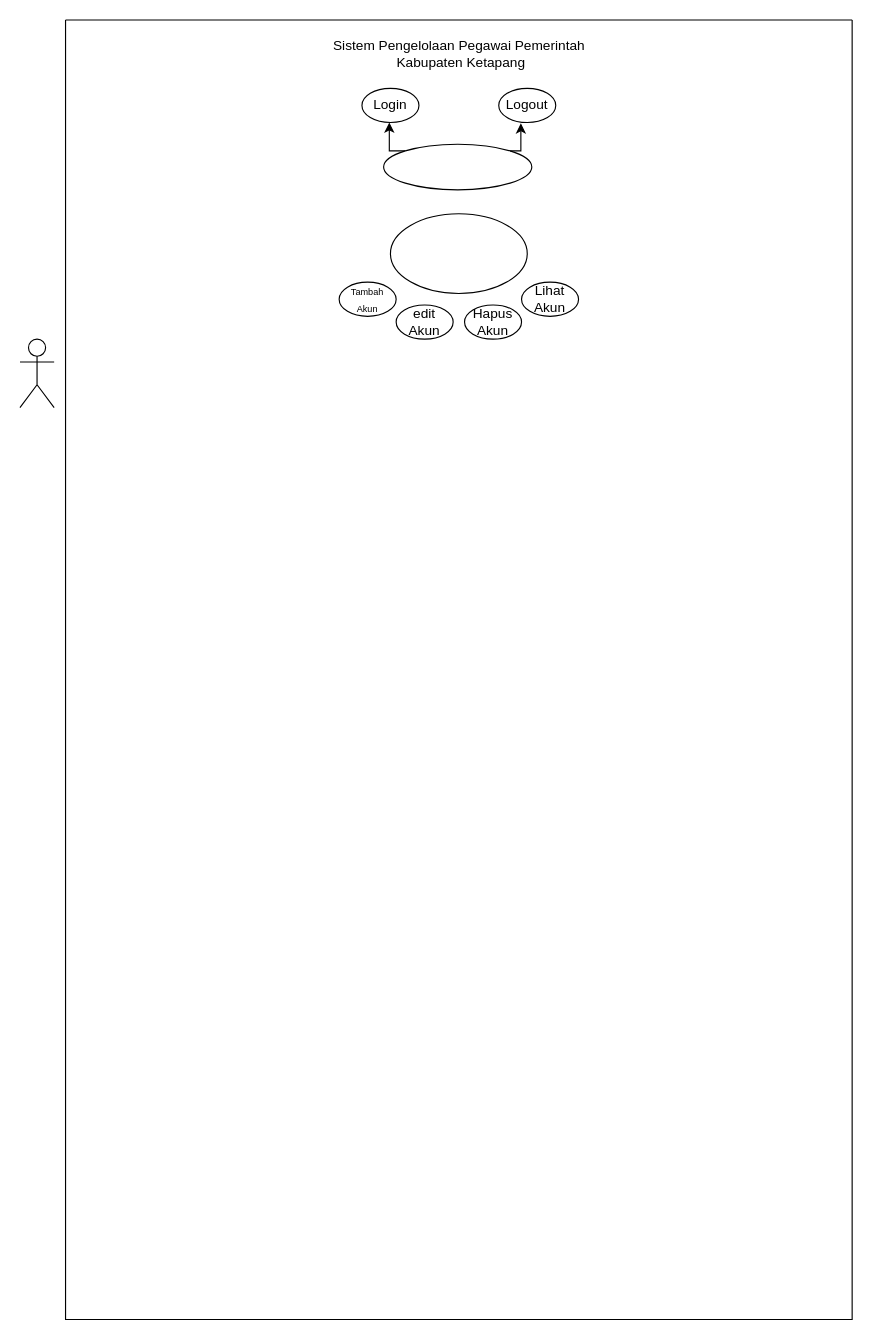
Image size: 872x1340. Some labels were removed from this diagram. The box of each missing label's shape, as (x1, y1, x2, y2) in pixels:
Actor: (19, 338, 54, 408)
Manajemen Hak Akses Admin: (389, 213, 527, 294)
Validasi: (382, 143, 532, 190)
